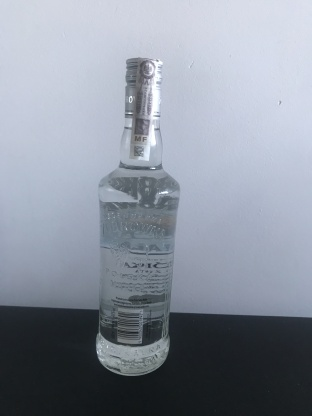nakretka: (122, 53, 164, 123)
